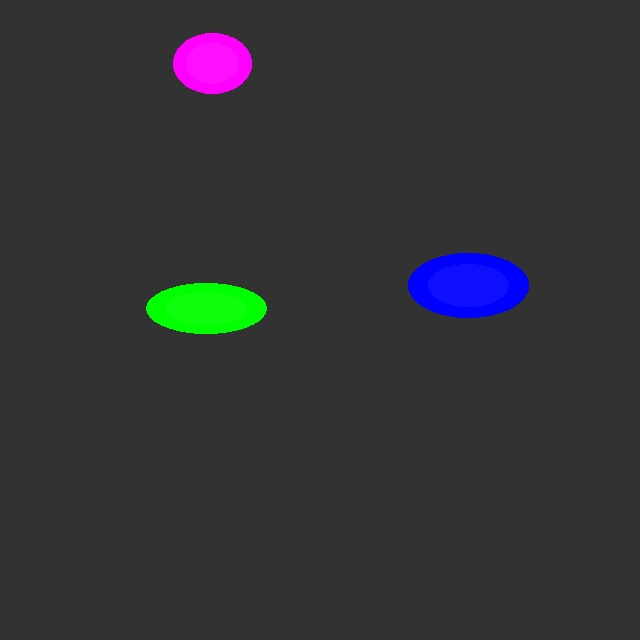fish: (408, 252, 528, 317), (146, 283, 266, 333), (172, 32, 252, 93)
